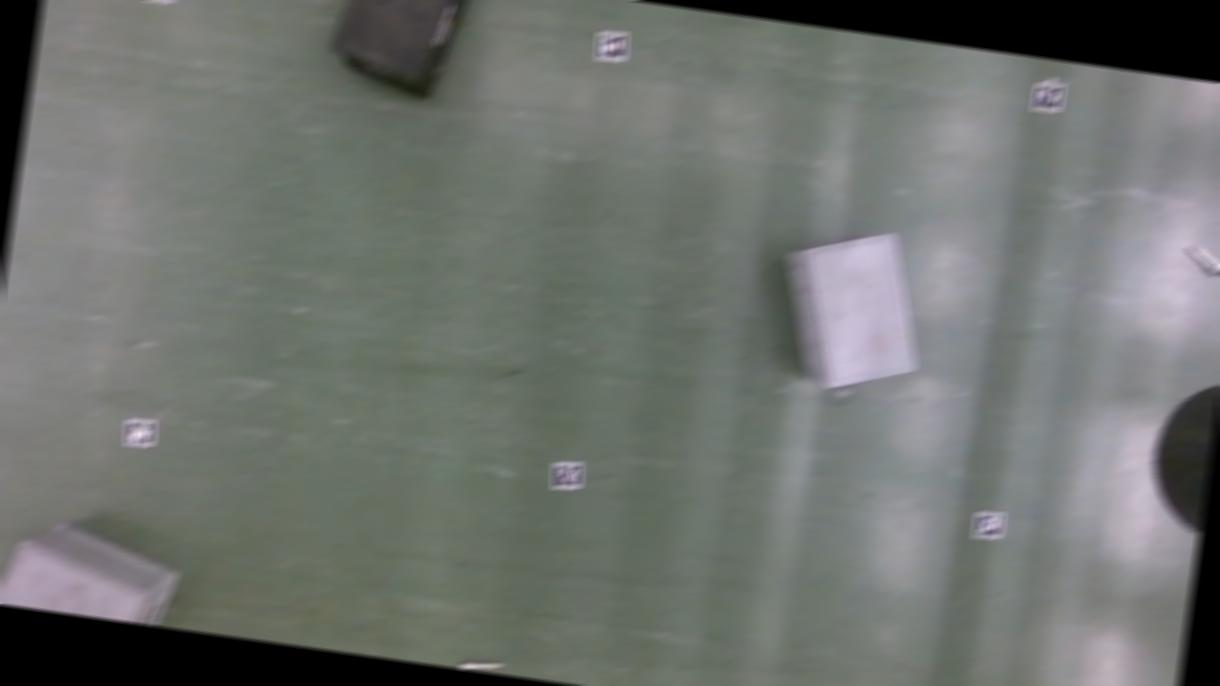probes: (1179, 243, 1220, 277), (458, 658, 502, 673)
rako: (768, 220, 933, 398), (319, 0, 478, 100)
